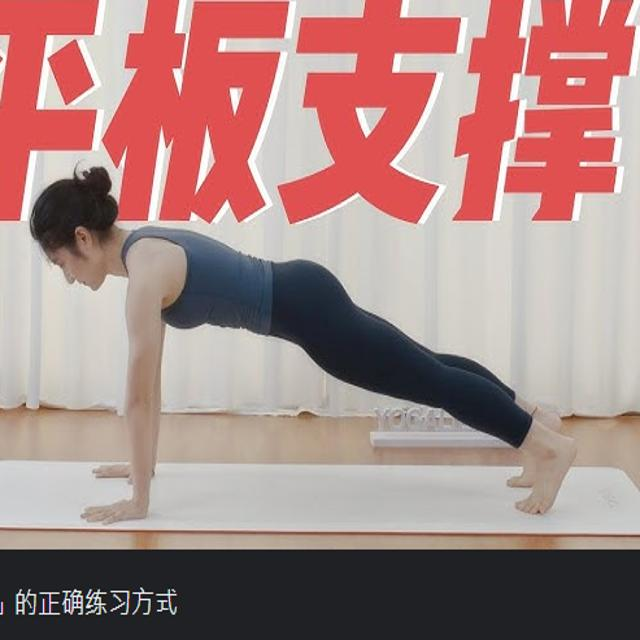Plank_Pose: (23, 163, 583, 527)
